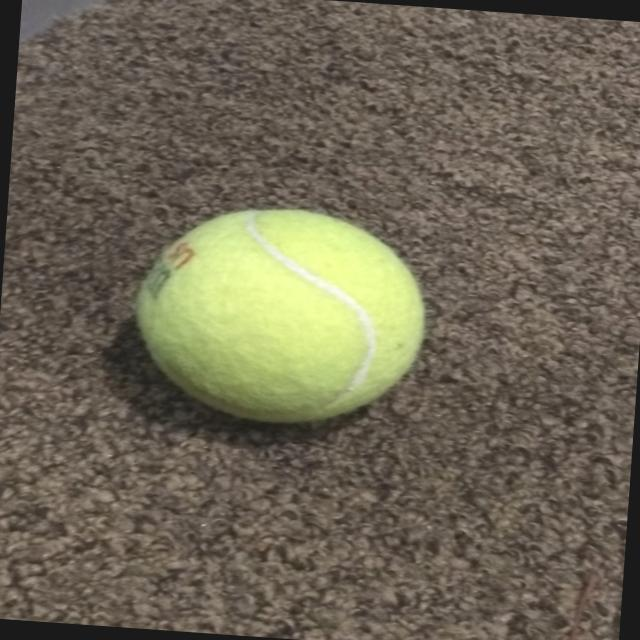Tennis Ball: (123, 196, 434, 433)
